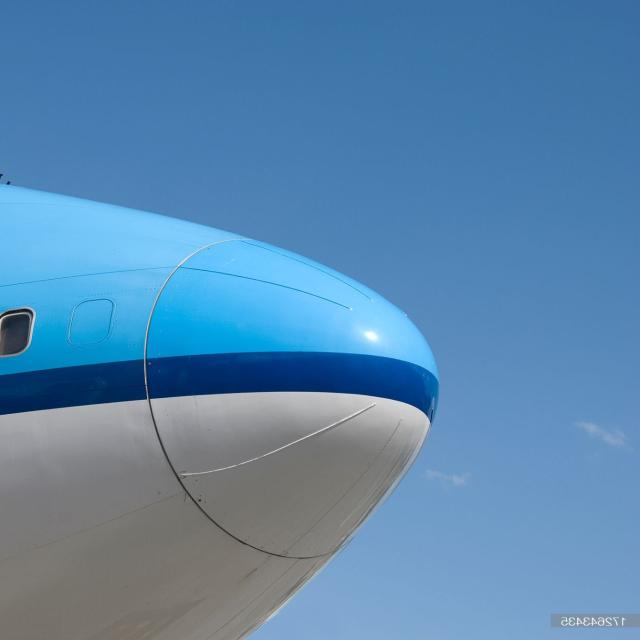Rupture: (180, 490, 193, 506)
